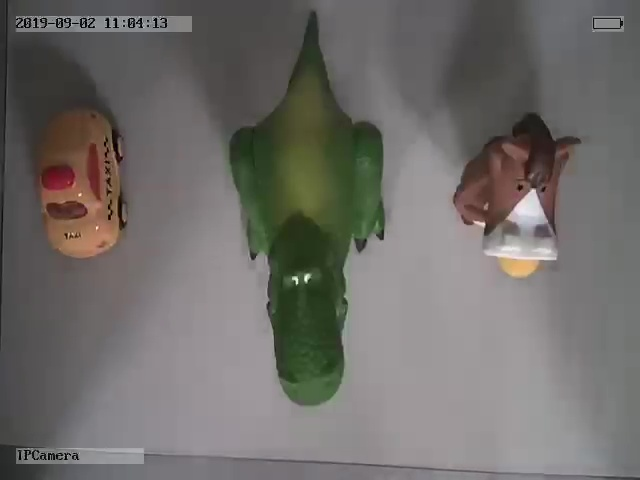car: (35, 104, 128, 258)
horse: (453, 113, 581, 278)
rex: (229, 15, 387, 406)
